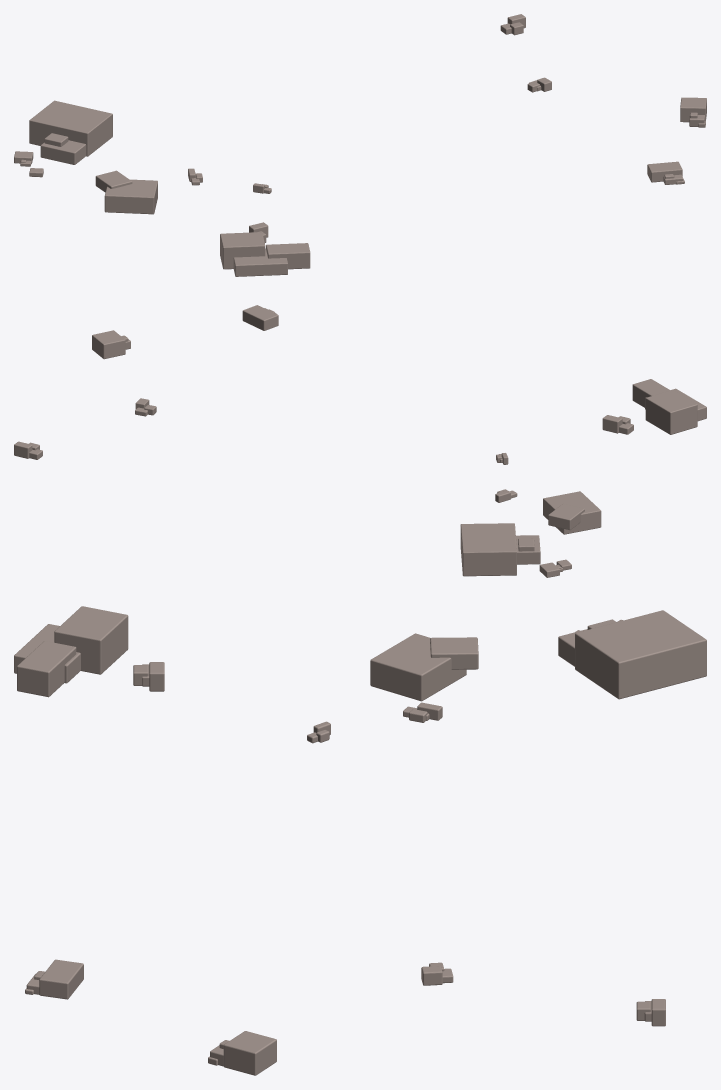
The model's file is Batu2.fbx.
3 views of the same model, one above another, from view 1: azimuth 30°, elevation 25°; view 2: azimuth 150°, elevation 25°; view 3: azimuth 270°, elevation 25° (orthographic). The views are drawn at different scales.
Parts seen in each view (by area): view 1: batu.001; view 2: batu.001; view 3: batu.001.
Part boxes in pixels (x1,y1,x2,y2): batu.001: [14, 14, 706, 276]; batu.001: [14, 305, 706, 577]; batu.001: [14, 606, 706, 1075].
Size of the model in its own units: 7558 by 506 by 5028.
